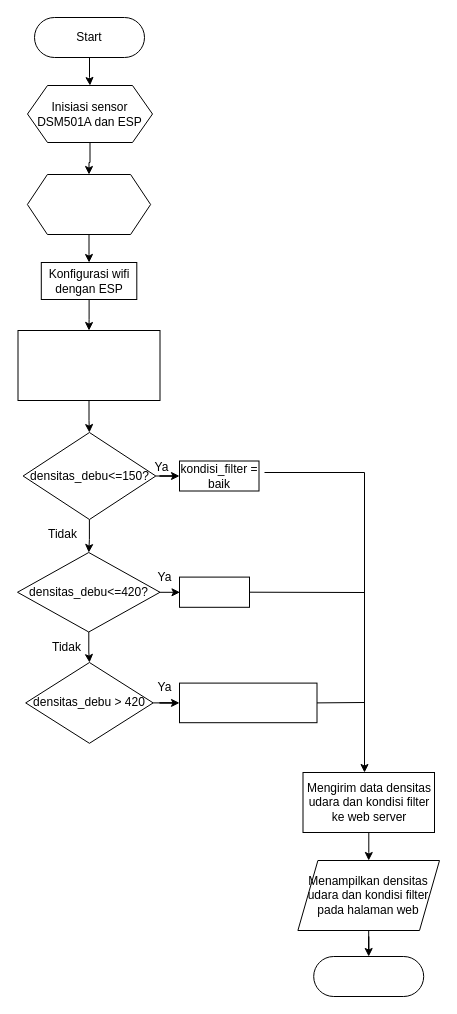
This 457x1014 diagram has some shape labels left out. The centre of each missing label's shape, as x and y in pixels:
inisialisasi variabel densitas_debu dan kondisi_filter: point 88,204
kondisi_filter = tidak sehat: point 214,591
Kondisi_filter=Berbahaya: point 247,702
Konversi satuan dari sensor ke µg/m³ dan memasukannya ke variabel densitas_debu: point 88,365
Stop: point 368,976
